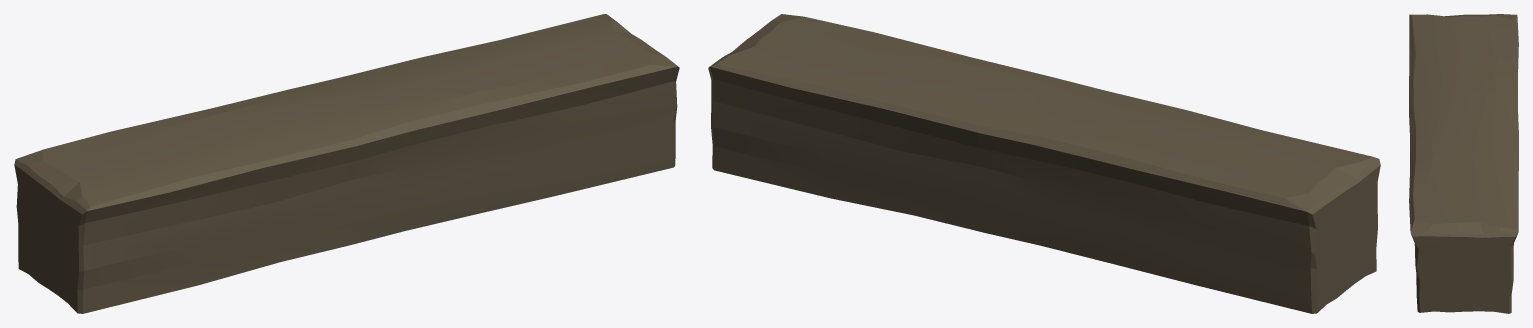
File: Ground.fbx
3 renders of one model, left to right at view 1: azimuth 30°, elevation 25°; view 2: azimuth 150°, elevation 25°; view 3: azimuth 270°, elevation 25°, orthographic. The views are drawn at different scales.
Visible parts, largest first — view 1: Cube.020; view 2: Cube.020; view 3: Cube.020.
Boxes of the visible parts, bbox=[...] form: Cube.020: bbox=[14, 14, 679, 313]; Cube.020: bbox=[708, 14, 1380, 313]; Cube.020: bbox=[1409, 14, 1518, 313].
Bounding box in the file's own units: 1125 × 209 × 237.
